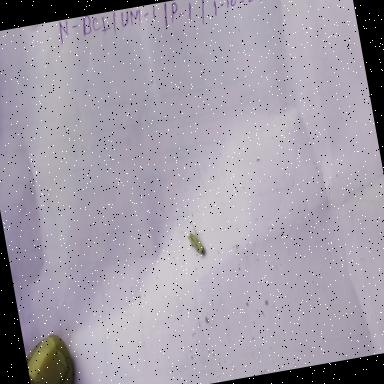pbw: (185, 219, 210, 263)
